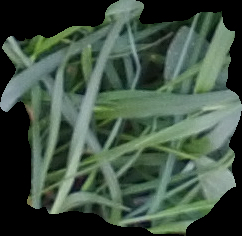grass: (1, 1, 240, 234)
